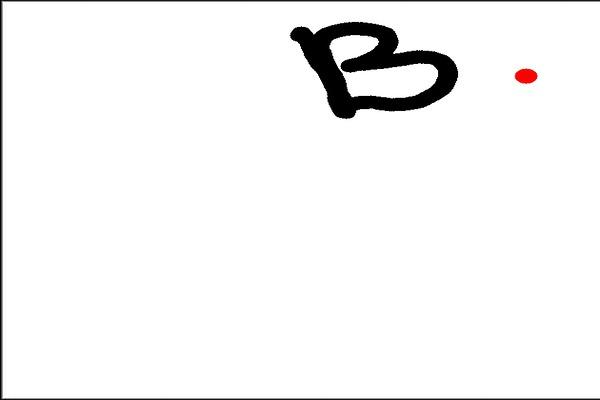B: (279, 11, 466, 124)
